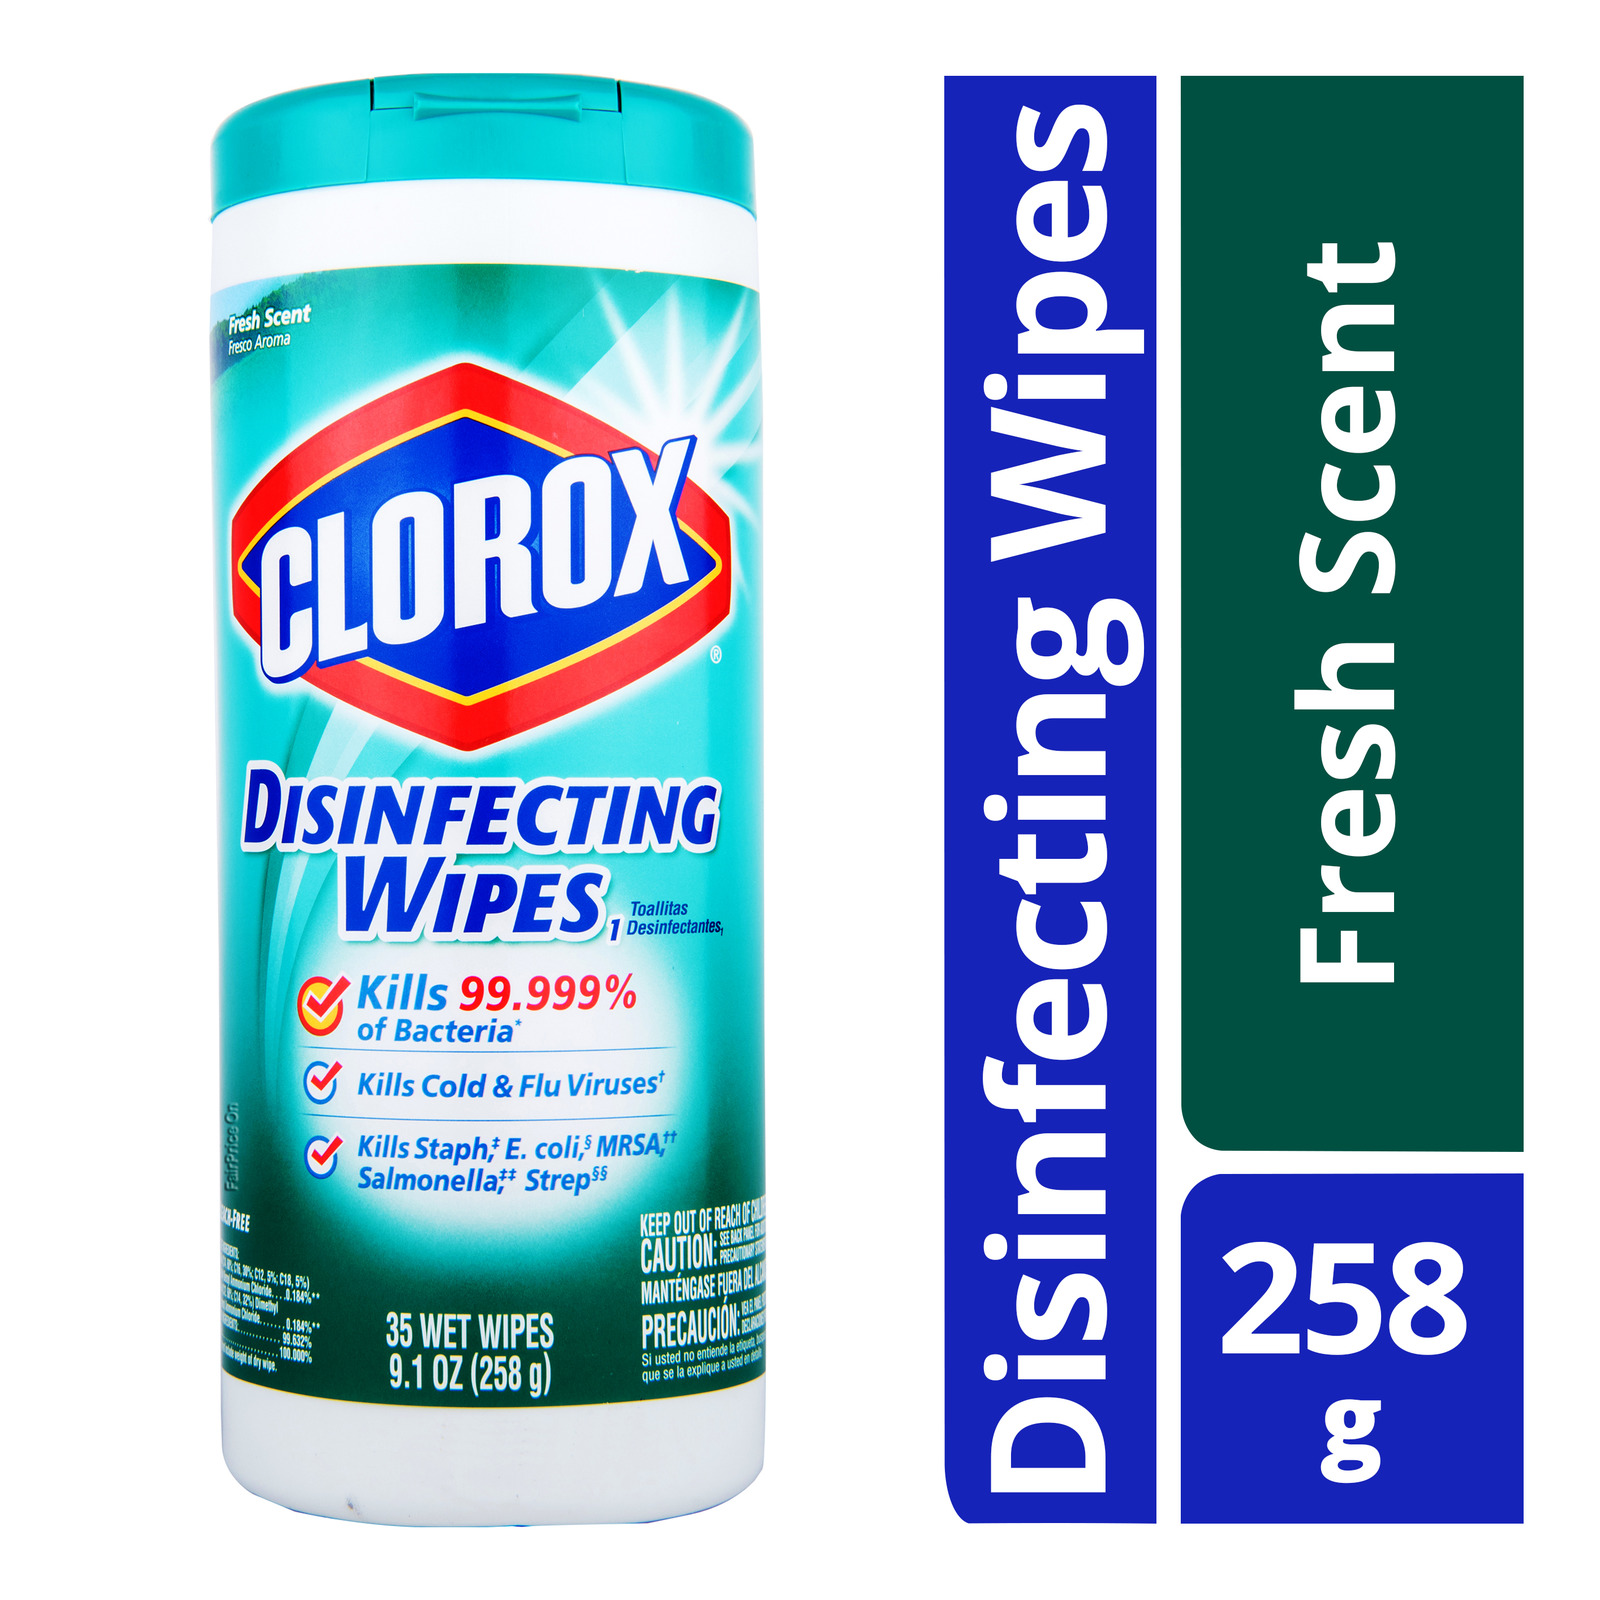Wipes: (193, 64, 782, 1538)
